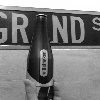beer: (22, 12, 53, 100)
